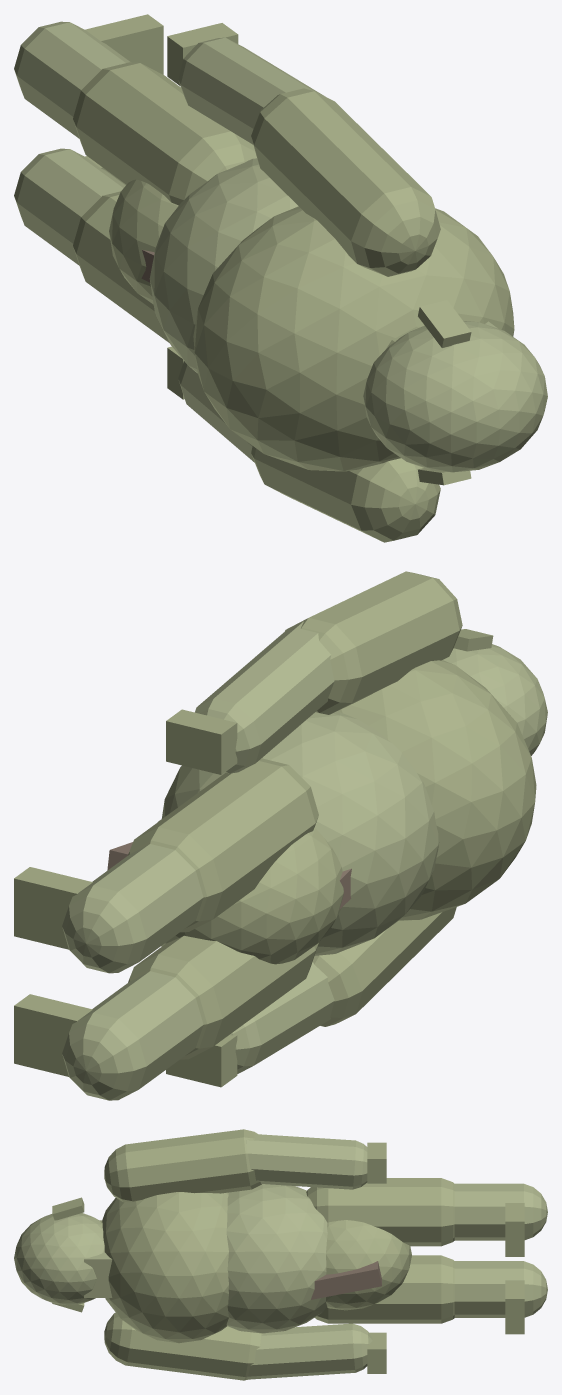
Rendered from green_ogre_v1.glb.
3 views of the same model, one above another, from view 1: azimuth 30°, elevation 25°; view 2: azimuth 150°, elevation 25°; view 3: azimuth 270°, elevation 25° (orthographic). The views are drawn at different scales.
Parts seen in each view (by area): view 1: torso_chest, head_head, arms_upper_R, legs_thigh_R, torso_belly, arms_upper_L, arms_fore_R, legs_shin_R, legs_shin_L, torso_pelvis, legs_thigh_L, legs_foot_R (+5 smaller); view 2: torso_chest, torso_belly, legs_thigh_R, arms_upper_R, legs_shin_R, legs_shin_L, torso_pelvis, arms_fore_R, legs_thigh_L, arms_upper_L, arms_fore_L, head_head (+5 smaller); view 3: torso_chest, torso_belly, arms_upper_R, legs_thigh_R, head_head, arms_upper_L, arms_fore_R, arms_fore_L, torso_pelvis, legs_thigh_L, legs_shin_R, legs_shin_L (+7 smaller).
Part boxes in pixels (<box>): torso_chest: <box>193,206,514,471</box>; head_head: <box>363,321,547,472</box>; arms_upper_R: <box>251,88,440,276</box>; legs_thigh_R: <box>73,62,256,205</box>; torso_belly: <box>149,158,298,373</box>; arms_upper_L: <box>251,446,440,542</box>; arms_fore_R: <box>178,37,325,144</box>; legs_shin_R: <box>14,21,130,138</box>; legs_shin_L: <box>14,148,125,265</box>; torso_pelvis: <box>109,179,178,304</box>; legs_thigh_L: <box>73,191,169,342</box>; legs_foot_R: <box>85,14,163,74</box>; torso_chest: <box>337,660,536,920</box>; torso_belly: <box>161,711,439,955</box>; legs_thigh_R: <box>128,758,318,932</box>; arms_upper_R: <box>285,571,462,714</box>; legs_shin_R: <box>62,844,203,973</box>; legs_shin_L: <box>62,971,203,1100</box>; torso_pelvis: <box>158,811,343,964</box>; arms_fore_R: <box>195,621,334,773</box>; legs_thigh_L: <box>128,935,318,1059</box>; arms_upper_L: <box>312,907,456,1026</box>; arms_fore_L: <box>229,962,334,1073</box>; head_head: <box>443,644,547,755</box>; torso_chest: <box>102,1192,228,1343</box>; torso_belly: <box>226,1184,327,1333</box>; arms_upper_R: <box>104,1129,261,1202</box>; legs_thigh_R: <box>306,1178,454,1246</box>; head_head: <box>14,1213,104,1305</box>; arms_upper_L: <box>104,1312,263,1380</box>; arms_fore_R: <box>246,1134,367,1189</box>; arms_fore_L: <box>246,1323,372,1379</box>; torso_pelvis: <box>326,1220,411,1310</box>; legs_thigh_L: <box>314,1255,454,1323</box>; legs_shin_R: <box>454,1183,547,1240</box>; legs_shin_L: <box>454,1261,547,1317</box>.
Size of the model in its own units: 1.06 by 1.38 by 2.75.
